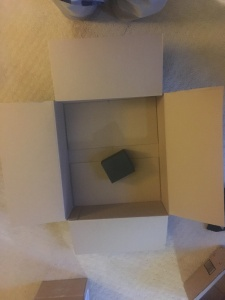innerbox: (54, 100, 169, 217)
outerbox: (2, 40, 224, 255)
product: (104, 151, 131, 179)
